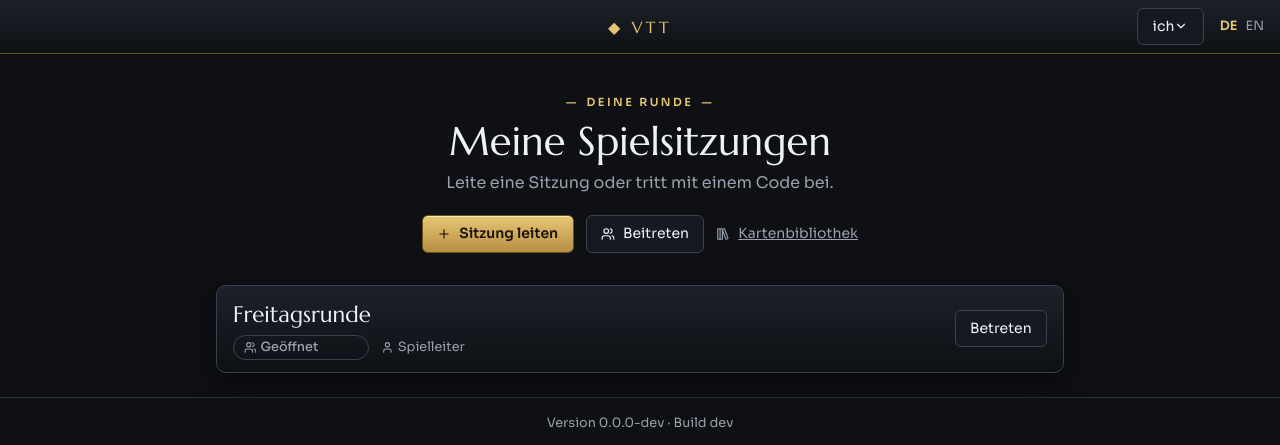
Test case: Übergänge › Starten sendet den Übergang und die Pille folgt dem Server
Expected: the heading "Freitagsrunde" is shown, [233, 300, 371, 328]
Click the button "Betreten". click: x=1001, y=328
box: [955, 310, 1047, 347]
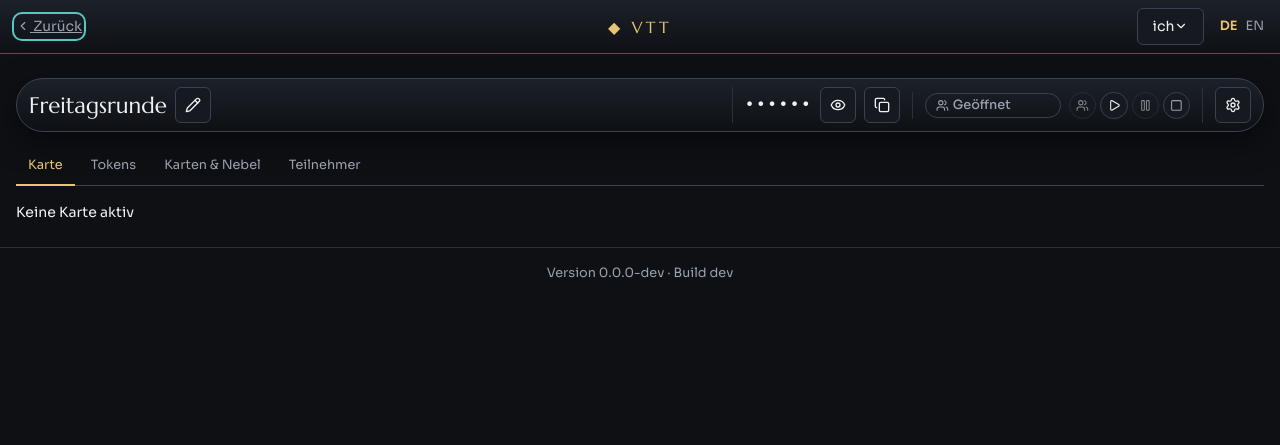
Click the button named "Starten". click: x=1114, y=105
box: [1100, 92, 1128, 119]
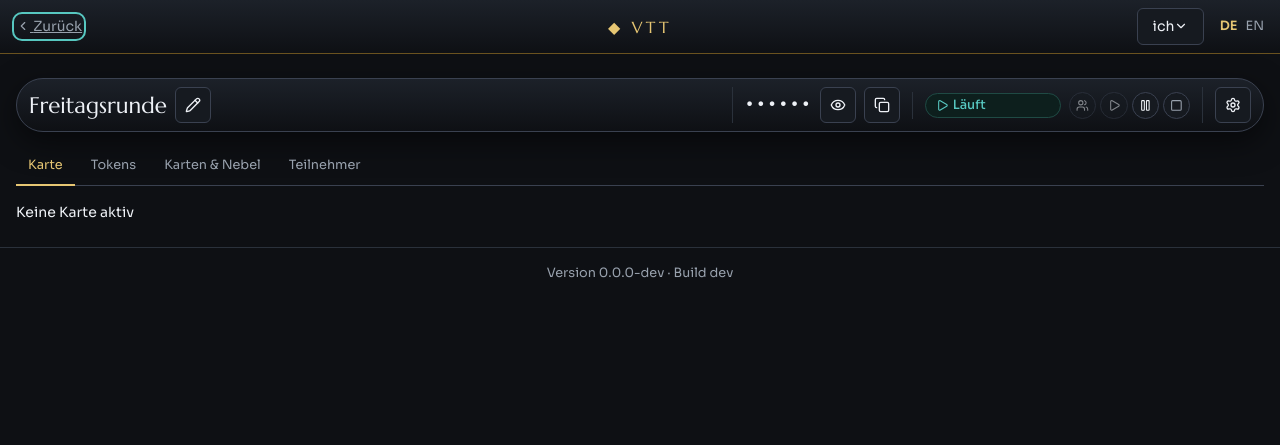
Result: the text "Läuft" is shown at [925, 93, 1061, 118]
Result: the button named "Starten" is disabled at [1100, 92, 1128, 119]
Result: the button named "Pausieren" is enabled at [1132, 92, 1159, 119]
